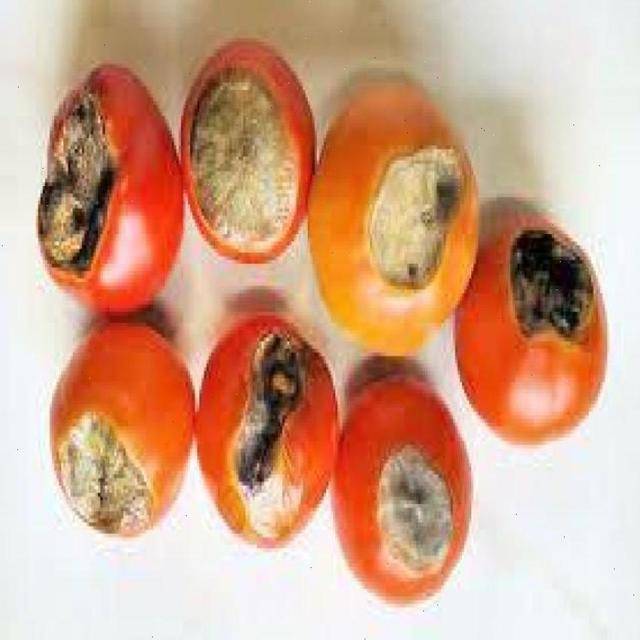Blossom End Rot Fruit: (51, 84, 368, 344)
